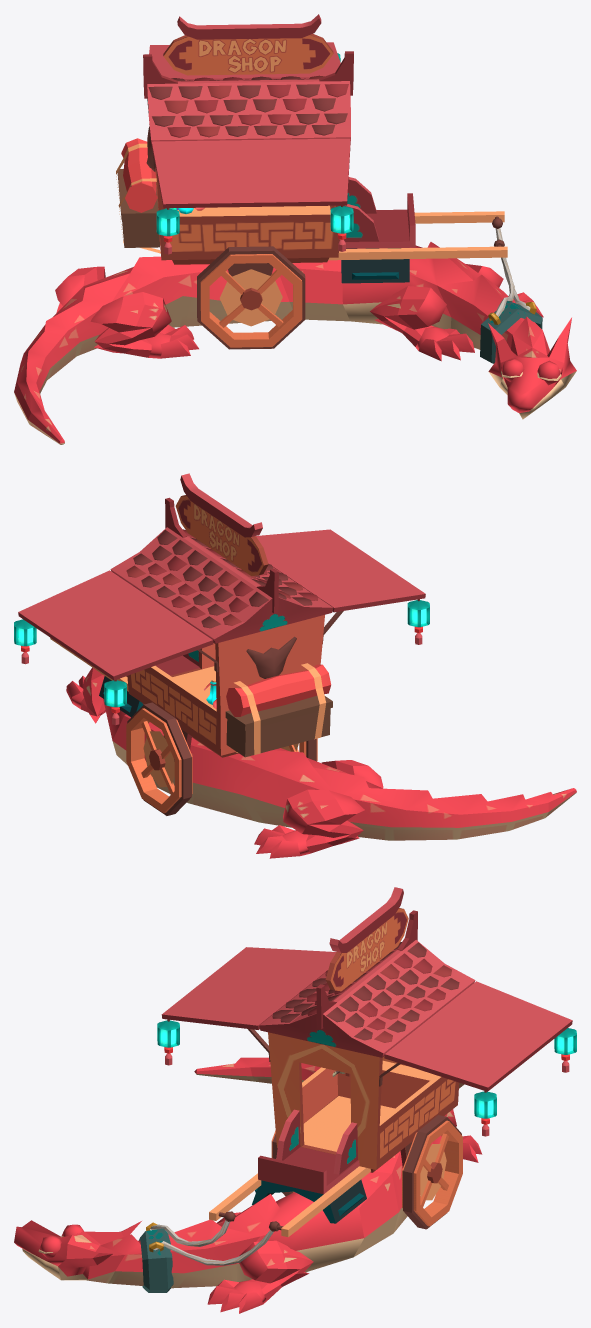
File: dragonShop.glb
3 views of the same model, one above another, from view 1: azimuth 30°, elevation 25°; view 2: azimuth 150°, elevation 25°; view 3: azimuth 270°, elevation 25° (orthographic). The views are drawn at different scales.
Size of the model in its own units: 8.26 by 4.9 by 8.18.
10 materials, 10 textured.
